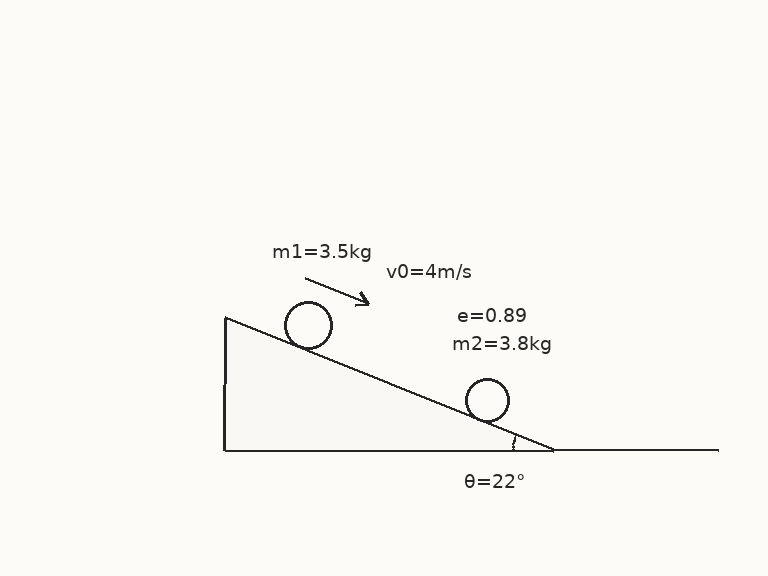ball: (282, 299, 334, 351), (463, 376, 511, 424)
ramp: (223, 315, 555, 452)
